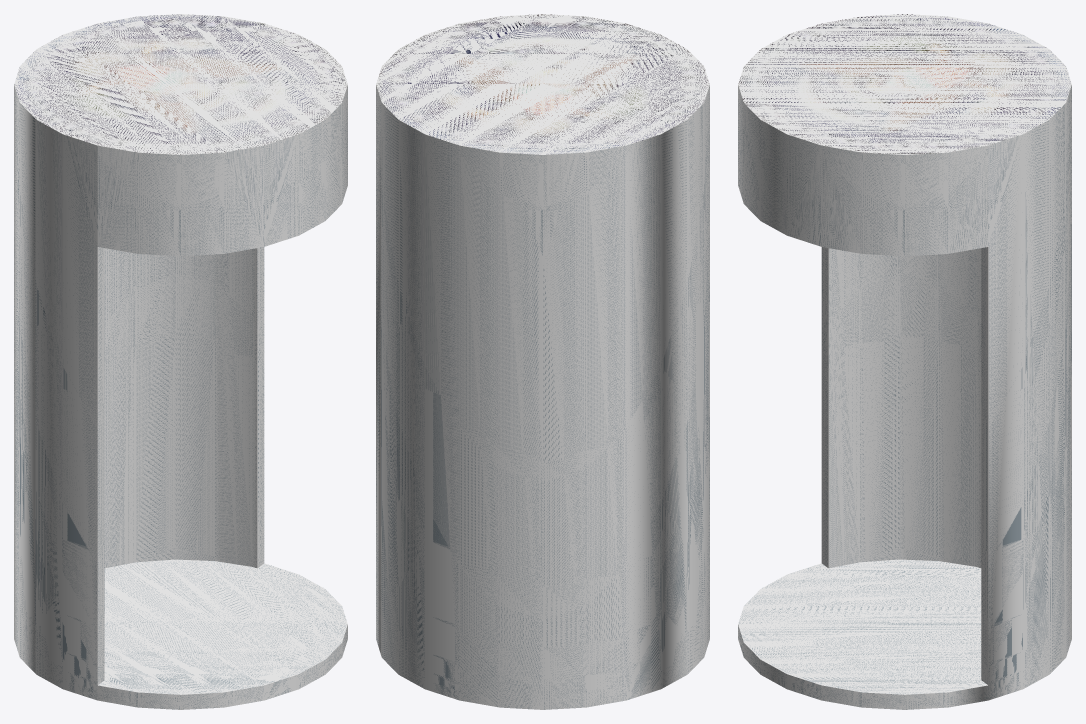
Rendered from New Elevator.fbx.
The picture shows the model from 3 angles, left to right: view 1: azimuth 30°, elevation 25°; view 2: azimuth 150°, elevation 25°; view 3: azimuth 270°, elevation 25°; orthographic projection.
Visible parts, largest first — view 1: Model; view 2: Model; view 3: Model.
Part boxes in pixels (x1=…): Model: x1=14, y1=14, x2=347, y2=709; Model: x1=376, y1=14, x2=709, y2=709; Model: x1=738, y1=14, x2=1071, y2=709.
Size of the model in its own units: 2 by 3.67 by 2.
